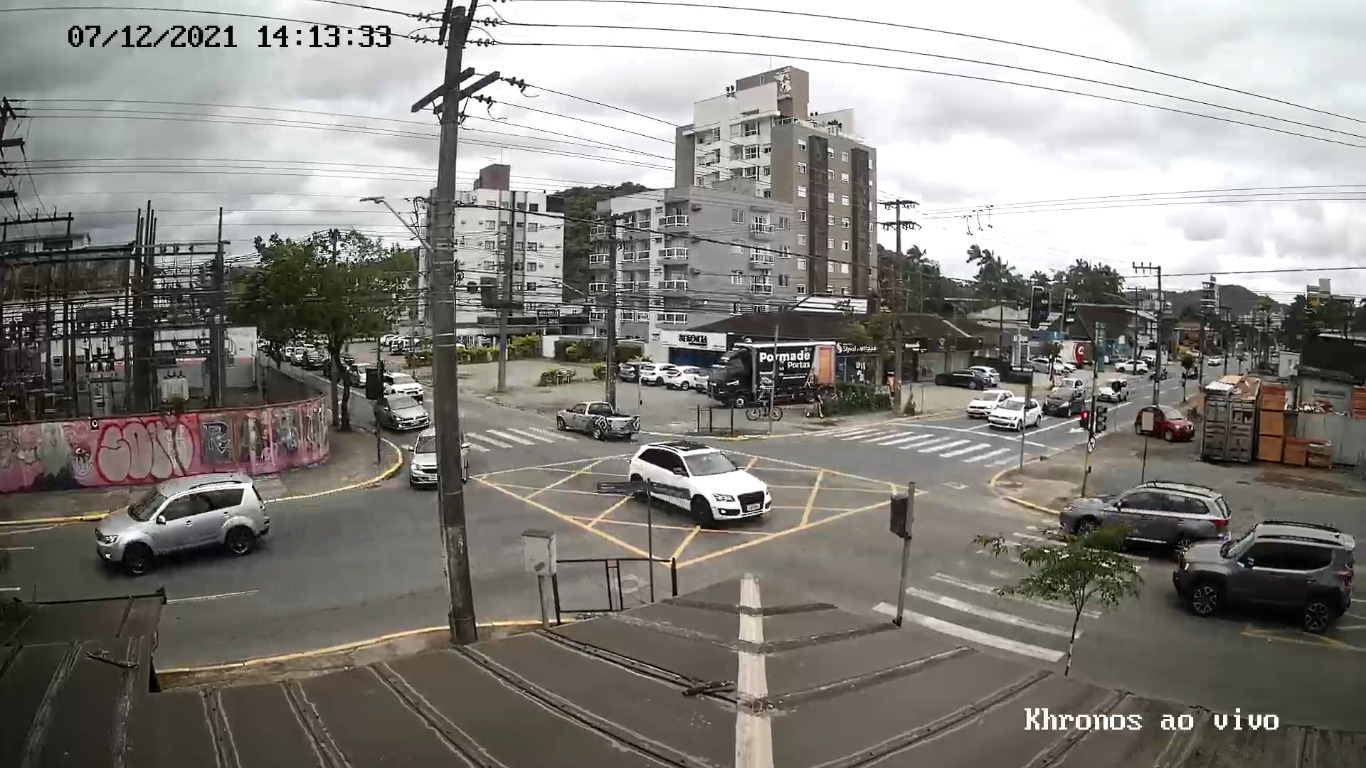car: (1173, 521, 1355, 634), (95, 471, 270, 578), (1060, 479, 1230, 562), (628, 440, 772, 529)
